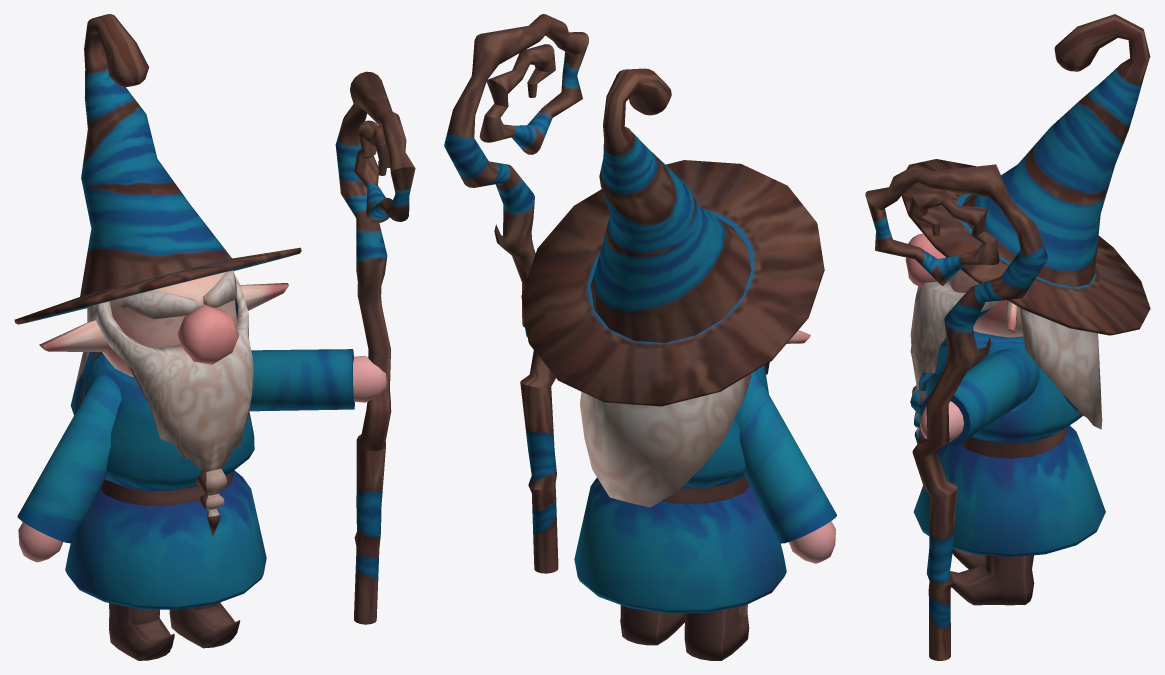
Rendered from Gnome 2.fbx.
3 renders of one model, left to right at view 1: azimuth 30°, elevation 25°; view 2: azimuth 150°, elevation 25°; view 3: azimuth 270°, elevation 25°, orthographic. The views are drawn at different scales.
Visible parts, largest first — view 1: Body, Gnome hat, Staff, Frontbeard, R.Arm, Head, L.Arm, R.Leg, Nose, L.Leg, Beardbraid, Backbeard; view 2: Gnome hat, Body, Staff, Backbeard, R.Arm, R.Leg, L.Leg; view 3: Gnome hat, Body, Staff, L.Arm, Backbeard, Frontbeard, L.Leg, Head, Nose, Beardbraid.
Boxes of the visible parts, x1,y1,x2,y2 form: Body: (65, 352, 266, 609); Gnome hat: (14, 14, 301, 324); Staff: (335, 71, 415, 624); Frontbeard: (96, 274, 253, 471); R.Arm: (17, 374, 121, 562); Head: (39, 270, 288, 377); L.Arm: (249, 349, 386, 411); R.Leg: (109, 603, 174, 660); Nose: (177, 305, 238, 364); L.Leg: (169, 602, 240, 648); Beardbraid: (196, 468, 227, 536); Backbeard: (70, 304, 101, 415); Gnome hat: (521, 68, 824, 406); Body: (574, 365, 786, 613); Staff: (444, 14, 588, 573); Backbeard: (580, 373, 751, 507); R.Arm: (736, 371, 836, 563); R.Leg: (684, 604, 749, 660); L.Leg: (620, 605, 684, 645); Gnome hat: (901, 14, 1150, 335); Body: (913, 330, 1105, 557); Staff: (865, 164, 1047, 660); L.Arm: (920, 348, 1039, 446); Backbeard: (935, 308, 1102, 429); Frontbeard: (910, 281, 1001, 390); L.Leg: (950, 555, 1034, 605); Head: (945, 257, 1023, 337); Nose: (905, 233, 945, 287); Beardbraid: (910, 385, 925, 443).
Size of the model in its own units: 117 by 184 by 84.29.
